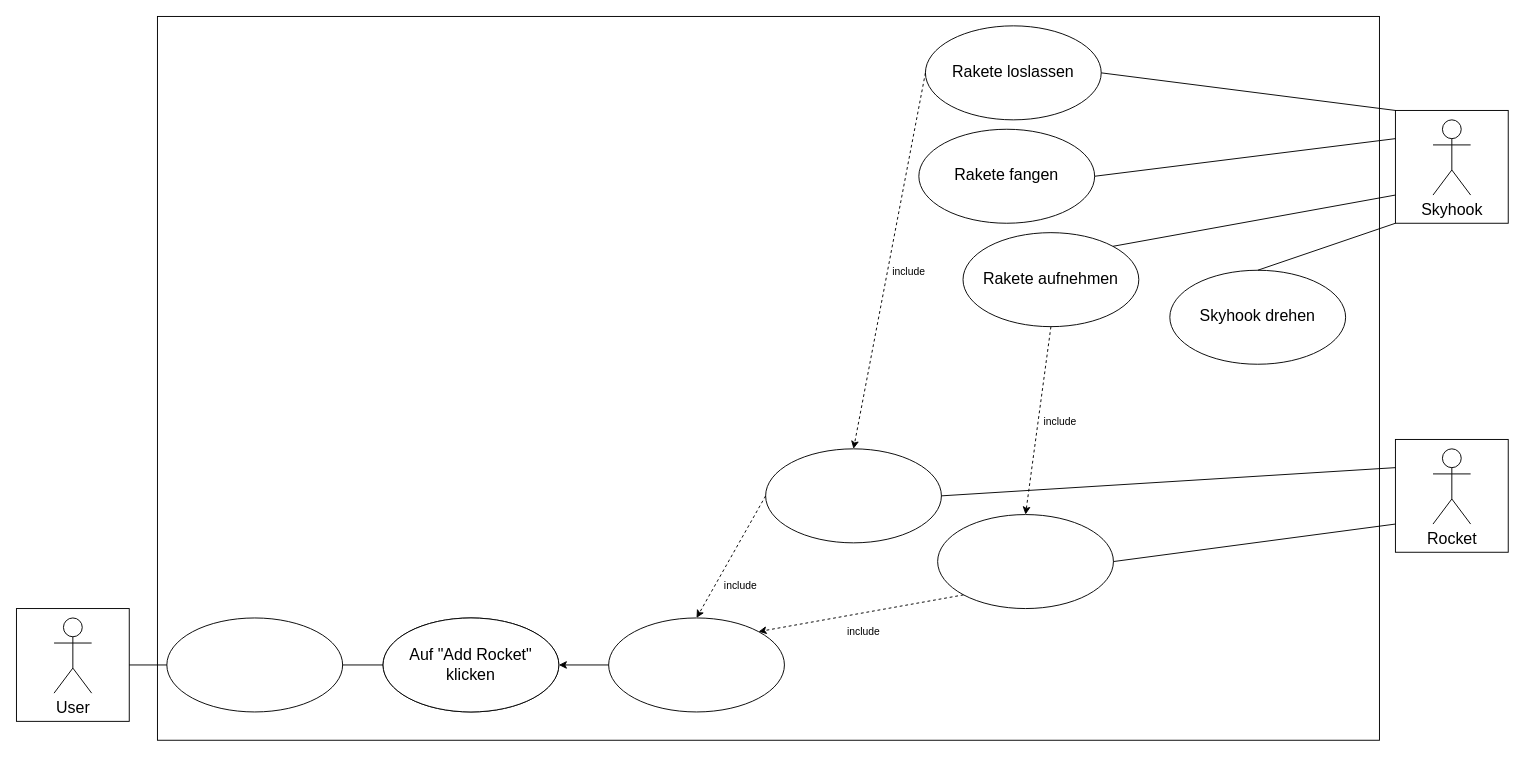
Some shapes in this 1525 by 757 pixel diagram are drawn without their labels. The box of each missing label's shape, as (x1, y1, x2, y2) in pixels:
Auf "Run" klicken: (166, 617, 343, 712)
Rakete hinzufügen: (608, 617, 784, 712)
Rakete landen: (765, 448, 941, 543)
Rakete starten: (937, 514, 1113, 609)
